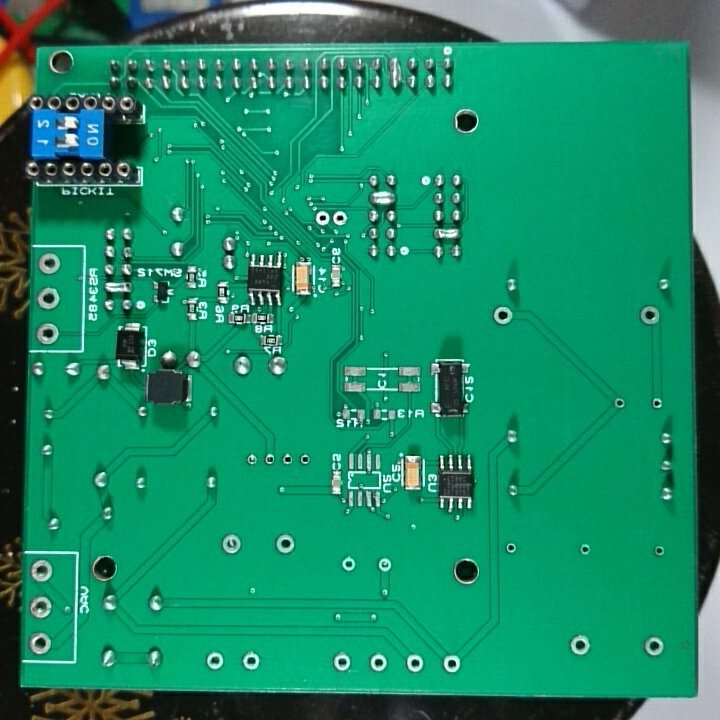F: (27, 594, 56, 623), (216, 531, 244, 560), (567, 630, 594, 660), (36, 252, 65, 278), (636, 303, 664, 329), (28, 557, 54, 585), (404, 651, 430, 678), (641, 632, 666, 660), (26, 630, 54, 655), (440, 649, 464, 678), (34, 323, 63, 347), (36, 284, 63, 309), (491, 303, 516, 329), (239, 649, 264, 675), (273, 532, 297, 557), (203, 649, 226, 675), (366, 649, 388, 675), (330, 652, 358, 672), (376, 555, 396, 575), (312, 208, 331, 229), (610, 394, 627, 416), (261, 449, 278, 471), (332, 206, 348, 229), (341, 554, 358, 575), (577, 541, 595, 559), (651, 542, 667, 562), (502, 538, 517, 558), (281, 450, 296, 470), (244, 451, 261, 468), (297, 449, 310, 470), (650, 394, 664, 412)
P: (366, 188, 399, 208), (431, 223, 464, 243), (387, 55, 404, 93), (102, 278, 135, 297)
